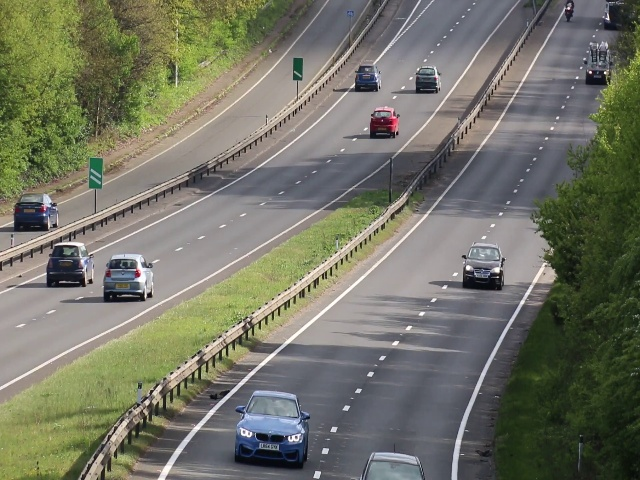car: (236, 390, 308, 468), (103, 253, 154, 300), (46, 241, 94, 287), (462, 241, 503, 290), (12, 193, 60, 229), (368, 106, 404, 137), (352, 63, 383, 92), (415, 64, 441, 94), (584, 58, 608, 85)
